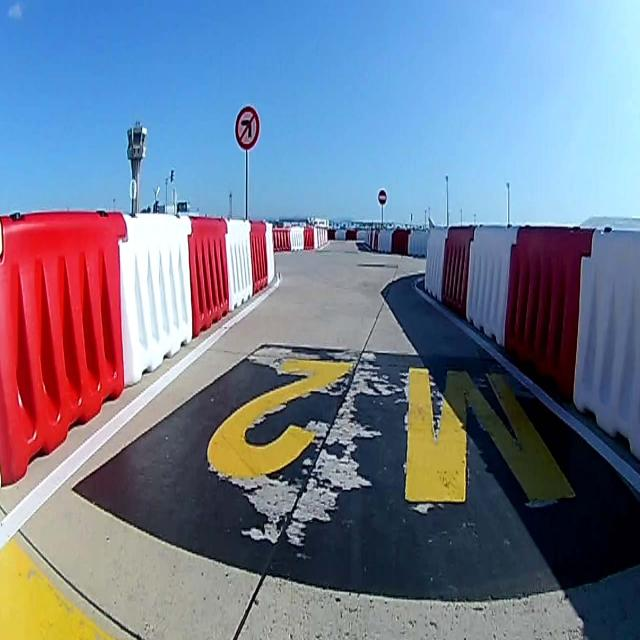soladonulmez: (236, 106, 260, 149)
